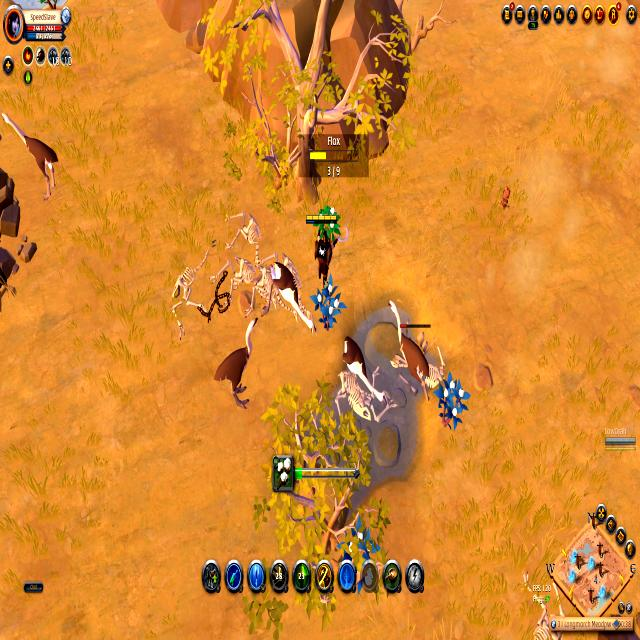hide: (435, 370, 468, 430), (314, 276, 343, 328), (319, 203, 340, 245)
mob: (336, 332, 389, 426), (268, 250, 315, 336)
ore: (385, 294, 443, 396), (1, 108, 62, 198), (212, 310, 262, 410)
red: (307, 209, 335, 275), (602, 431, 636, 449)
